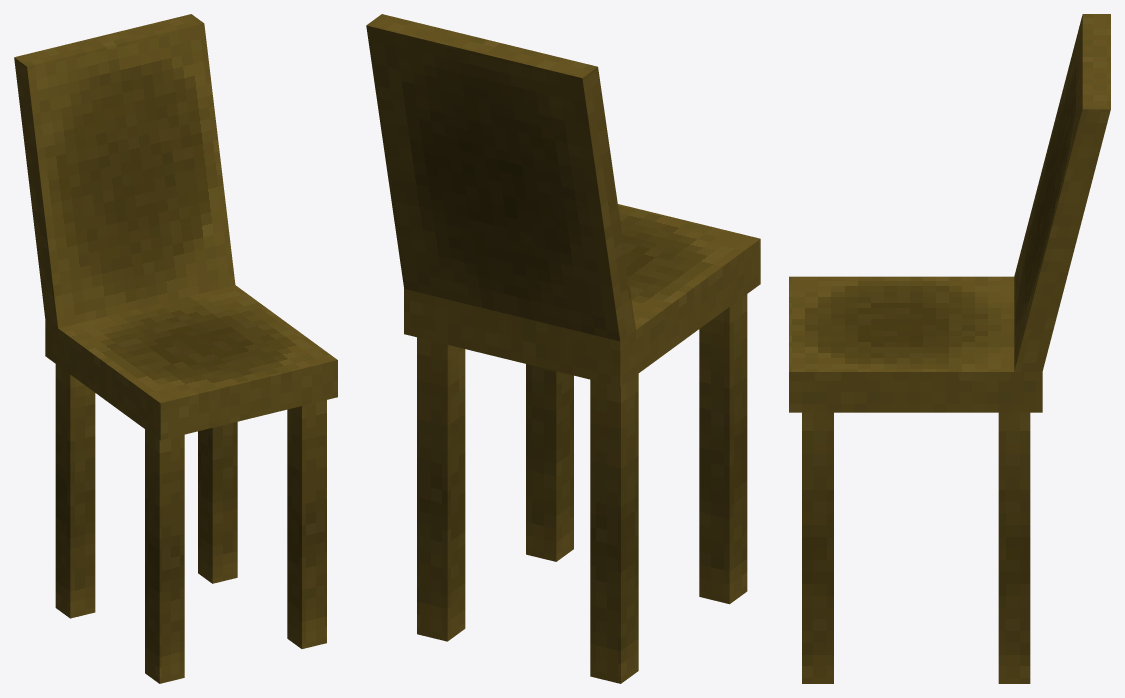
Rendered from chair.fbx.
3 renders of one model, left to right at view 1: azimuth 30°, elevation 25°; view 2: azimuth 150°, elevation 25°; view 3: azimuth 270°, elevation 25°, orthographic. The views are drawn at different scales.
Visible parts, largest first — view 1: chair; view 2: chair; view 3: chair.
Boxes of the visible parts, x1,y1,x2,y2 form: chair: (14,14,337,683); chair: (366,14,760,683); chair: (789,14,1110,683).
Bounding box in the file's own units: 43.61 × 123 × 62.34.
